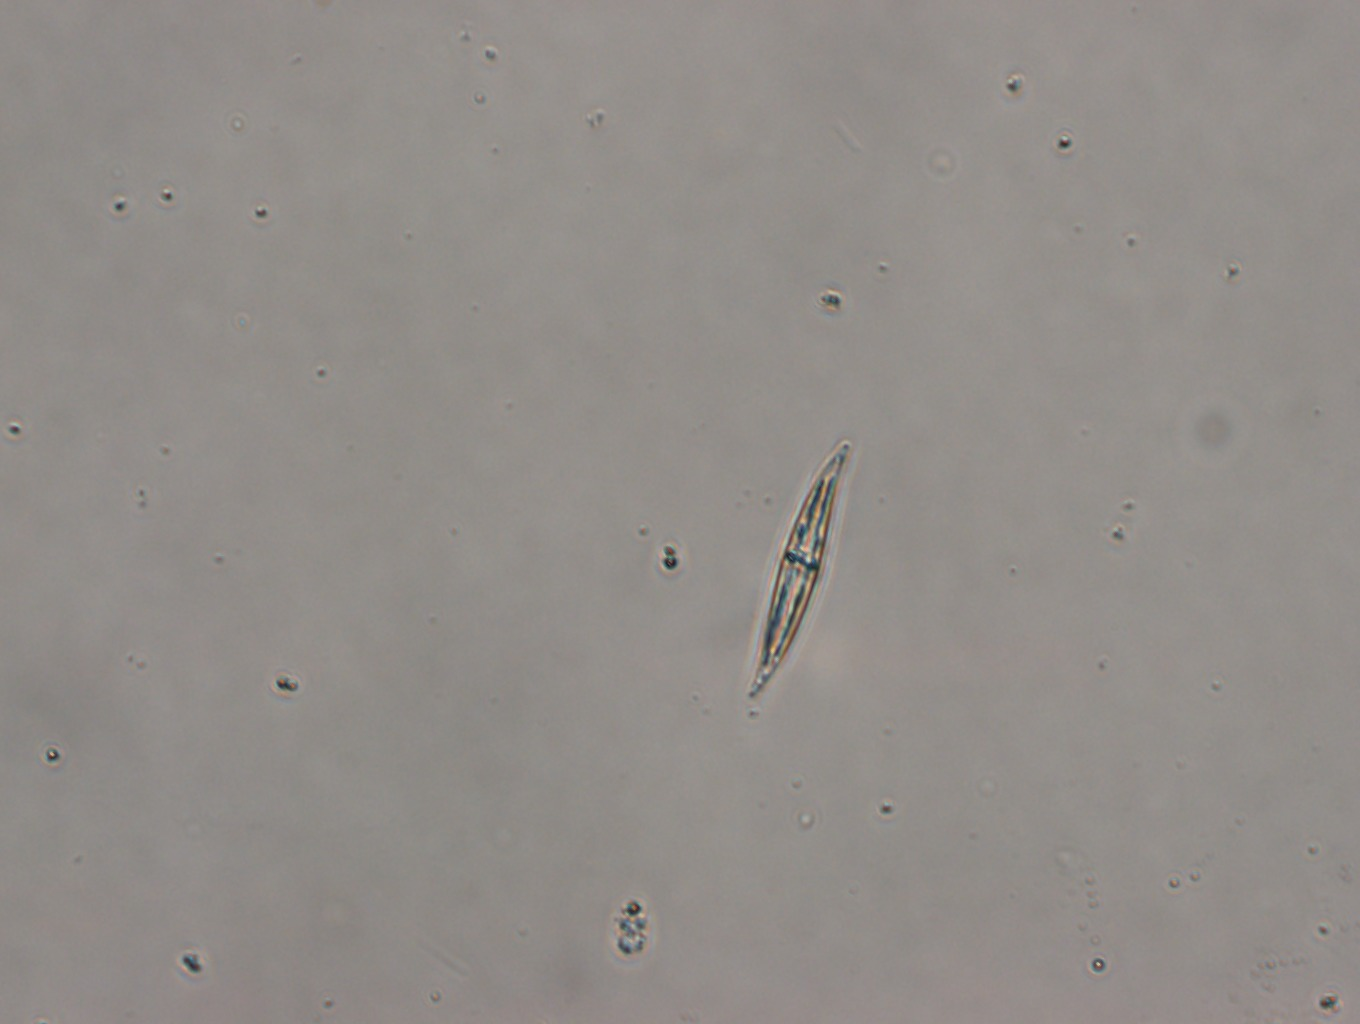pleurosigma pelagicum: (745, 431, 856, 703)
